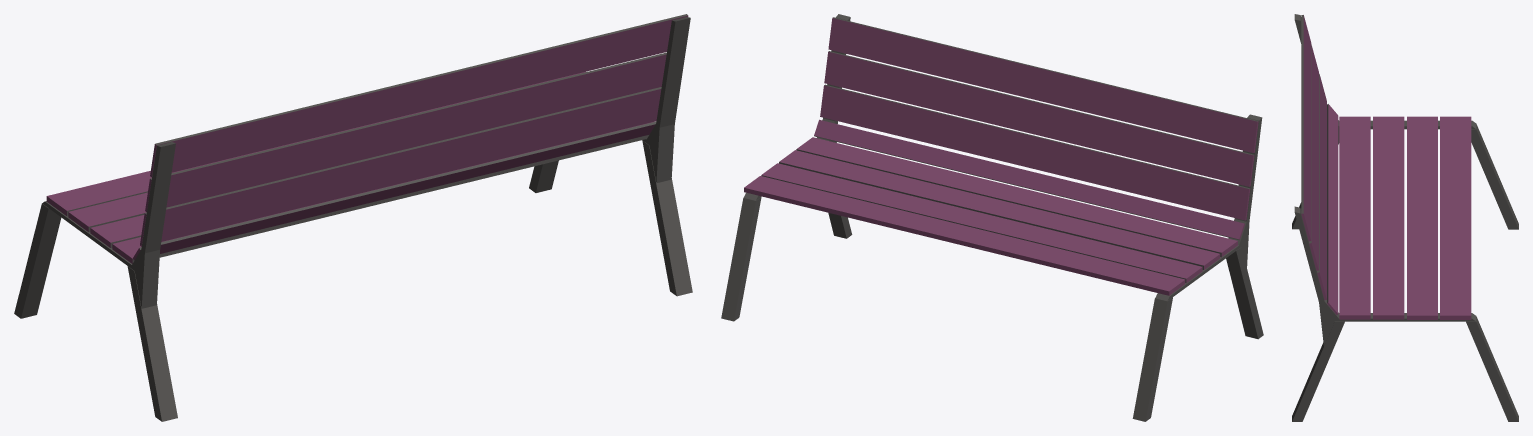
The model's file is parkBench.fbx.
3 renders of one model, left to right at view 1: azimuth 30°, elevation 25°; view 2: azimuth 150°, elevation 25°; view 3: azimuth 270°, elevation 25°, orthographic. The views are drawn at different scales.
Visible parts, largest first — view 1: Cube; view 2: Cube; view 3: Cube.
Part boxes in pixels (x1,y1,x2,y2): Cube: (14,14,692,421); Cube: (721,14,1263,421); Cube: (1292,14,1518,421).
Size of the model in its own units: 168 by 80.9 by 82.57.
